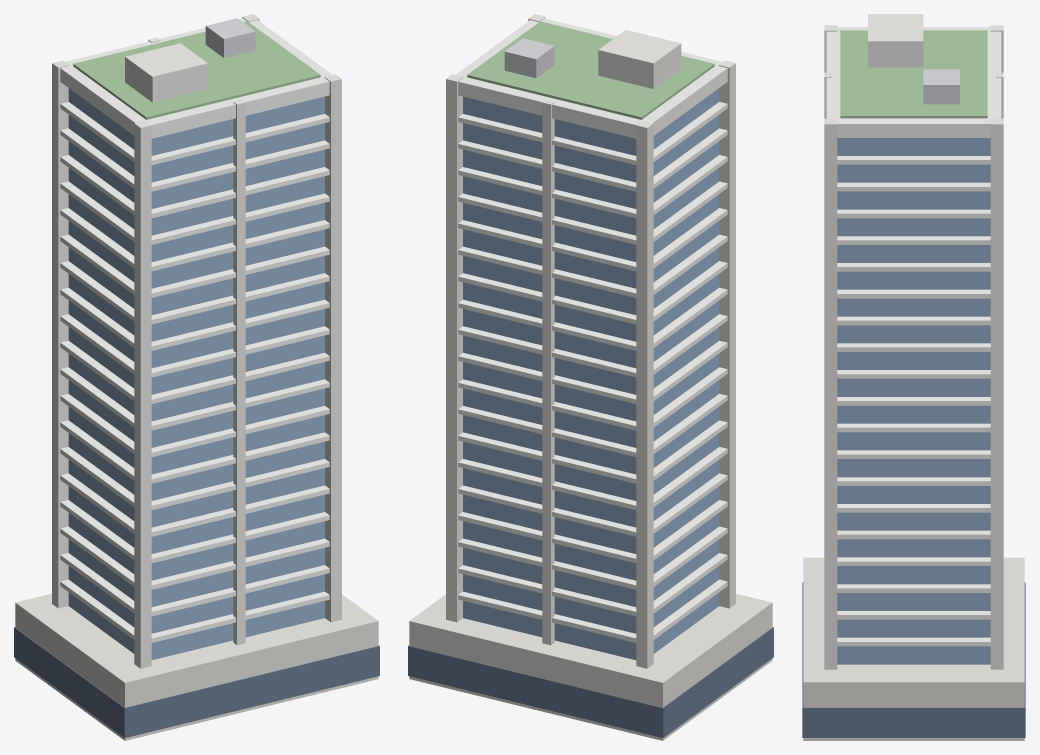
The model's file is tower-l.glb.
3 views of the same model, side by side, from view 1: azimuth 30°, elevation 25°; view 2: azimuth 150°, elevation 25°; view 3: azimuth 270°, elevation 25° (orthographic).
Visible parts, largest first — view 1: tower; view 2: tower; view 3: tower.
Part boxes in pixels (<box>): tower: <box>14,14,379,740</box>; tower: <box>408,14,773,740</box>; tower: <box>802,14,1025,740</box>.
Size of the model in its own units: 32.2 by 75.5 by 24.2.
